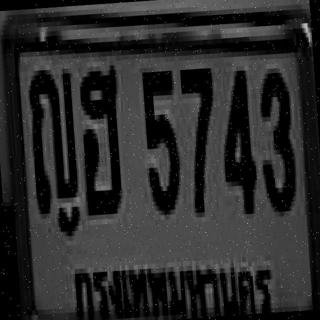A13: (26, 64, 79, 214)
A44: (74, 60, 124, 211)
N03: (254, 68, 295, 208)
N04: (216, 65, 257, 210)
N05: (140, 66, 180, 211)
N07: (178, 63, 219, 213)
P04: (68, 247, 279, 320)
